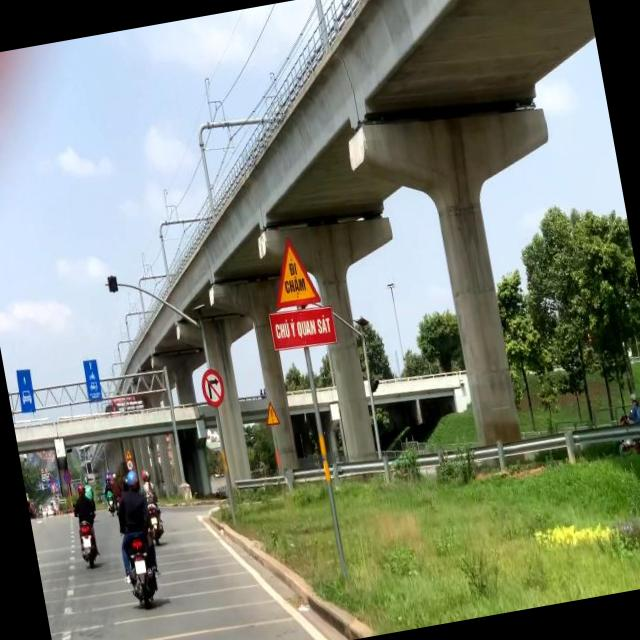P-123b: (199, 368, 227, 410)
W-245a: (266, 237, 324, 310)
